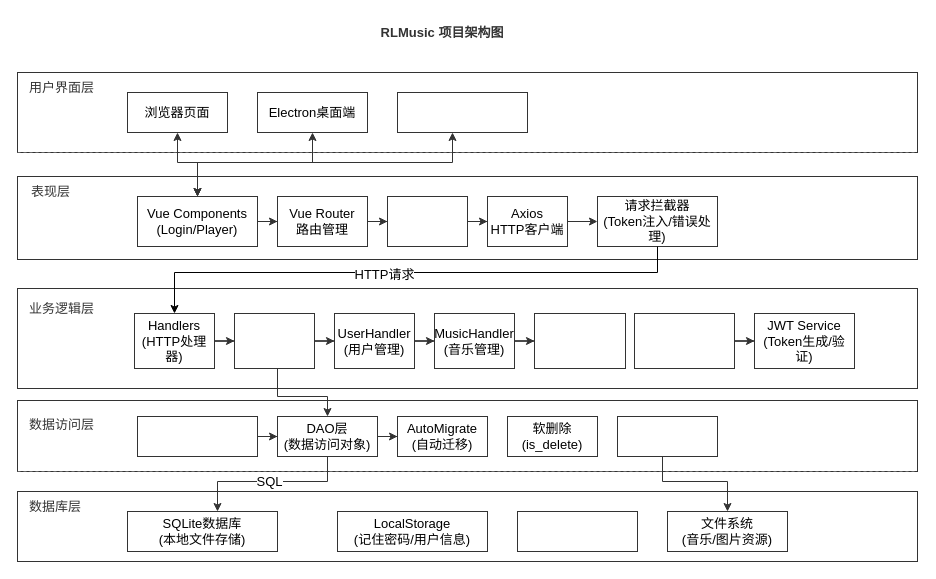
The diagram is 936 pixels wide and 579 high, and some of its shapes have lost their labels. The shapes that lost their labels are listed below. From the top down, each one's centre as x and y in pixels, then its label:
[462,112]: 移动端(Capacitor)
[427,221]: Pinia 状态管理
[274,340]: AuthHandler (登录/注册)
[580,340]: PlaylistHandler (歌单管理)
[684,340]: Middleware (JWT认证/CORS/限流)
[197,436]: Models (User/Song/Playlist)
[667,436]: 本地文件存储 (音乐/图片上传)
[577,531]: SessionStorage (Token存储)
